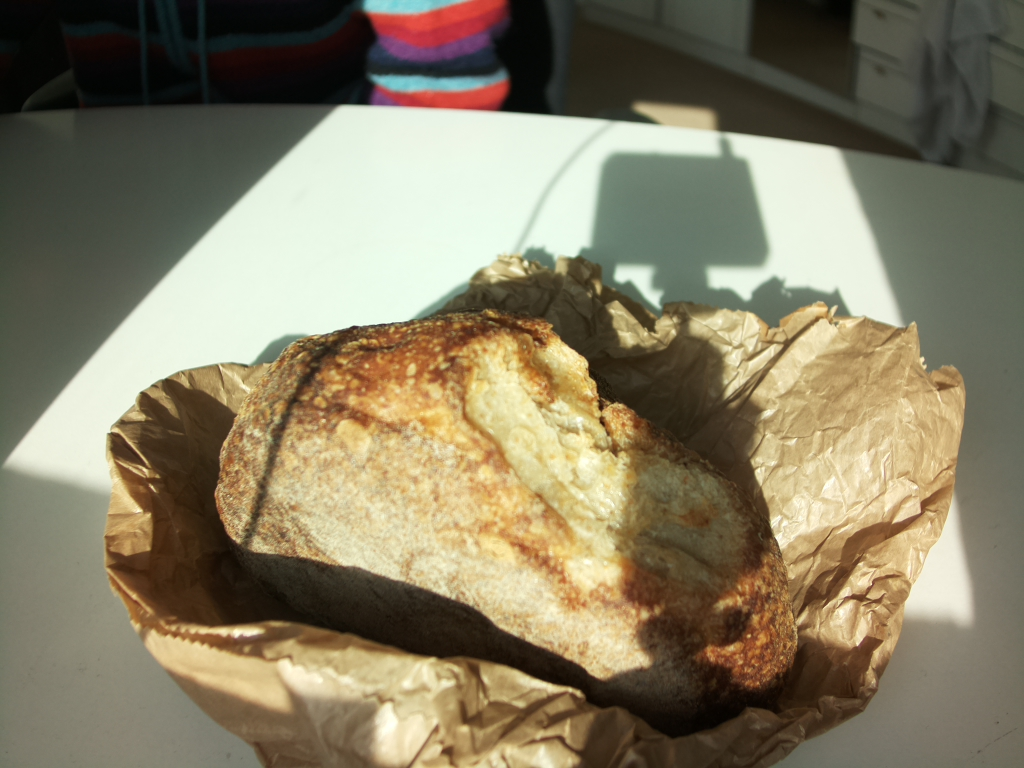bread: (212, 301, 798, 689)
